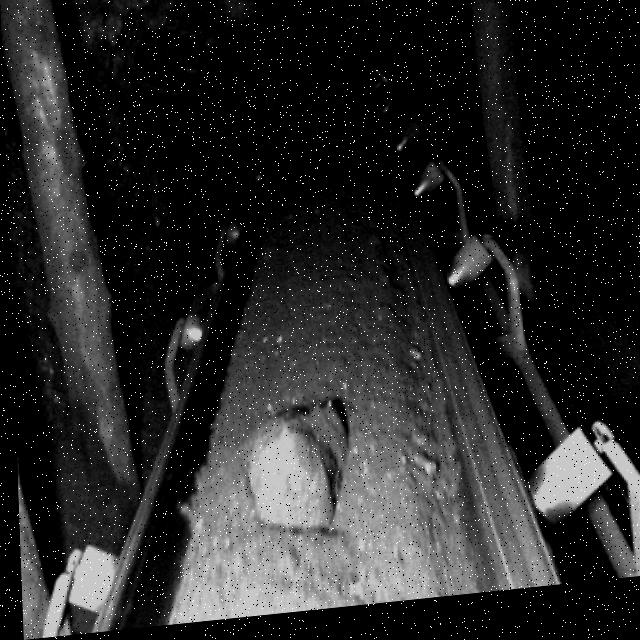large_sized_coal: (241, 405, 347, 541)
